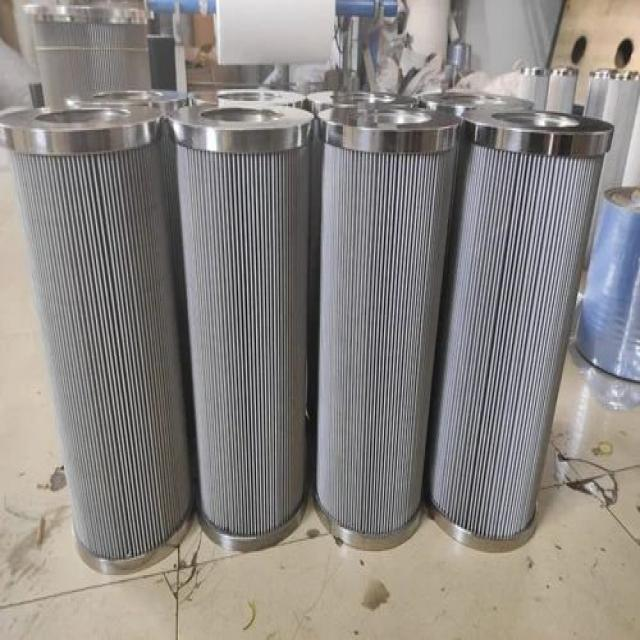oil_filter: (0, 113, 169, 592), (315, 96, 464, 548), (471, 104, 603, 550), (193, 100, 311, 548)
